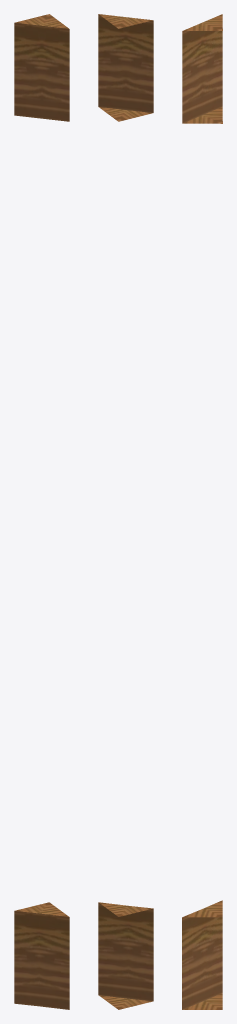
File: Corner_Exterior_TopDown.glb
3 renders of one model, left to right at view 1: azimuth 30°, elevation 25°; view 2: azimuth 210°, elevation 25°; view 3: azimuth 270°, elevation 25°, orthographic.
Visible parts, largest first — view 1: Corner_Exterior_TopDown; view 2: Corner_Exterior_TopDown; view 3: Corner_Exterior_TopDown.
Part boxes in pixels (<box>): Corner_Exterior_TopDown: <box>14,14,69,1009</box>; Corner_Exterior_TopDown: <box>98,14,153,1009</box>; Corner_Exterior_TopDown: <box>182,14,222,1009</box>.
Size of the model in its own units: 0.0931 by 2.47 by 0.0931.
1 material, 1 textured.
